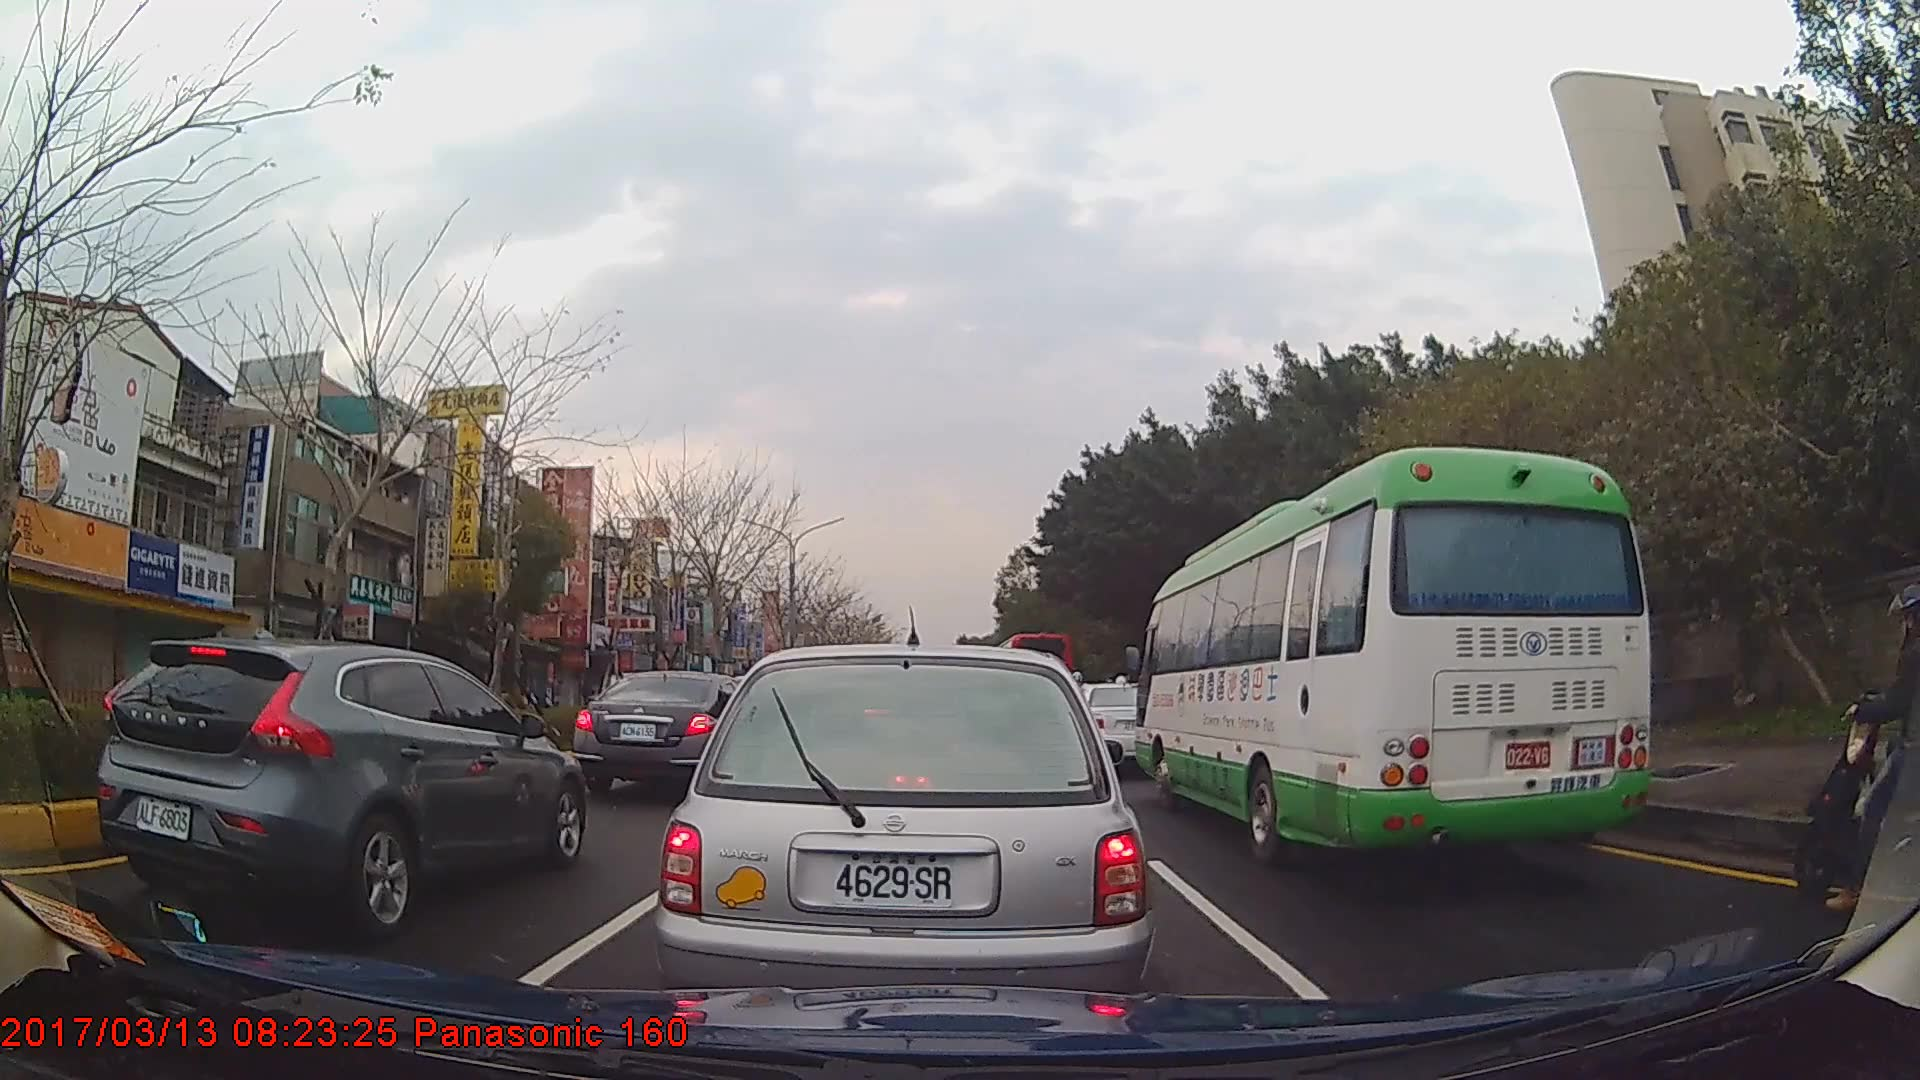rider: (1806, 580, 1920, 911), (1, 638, 21, 705)
vehicle: (1132, 443, 1650, 873), (656, 641, 1152, 1038), (97, 639, 585, 934), (571, 670, 759, 806), (1072, 680, 1171, 772), (994, 628, 1076, 723)
